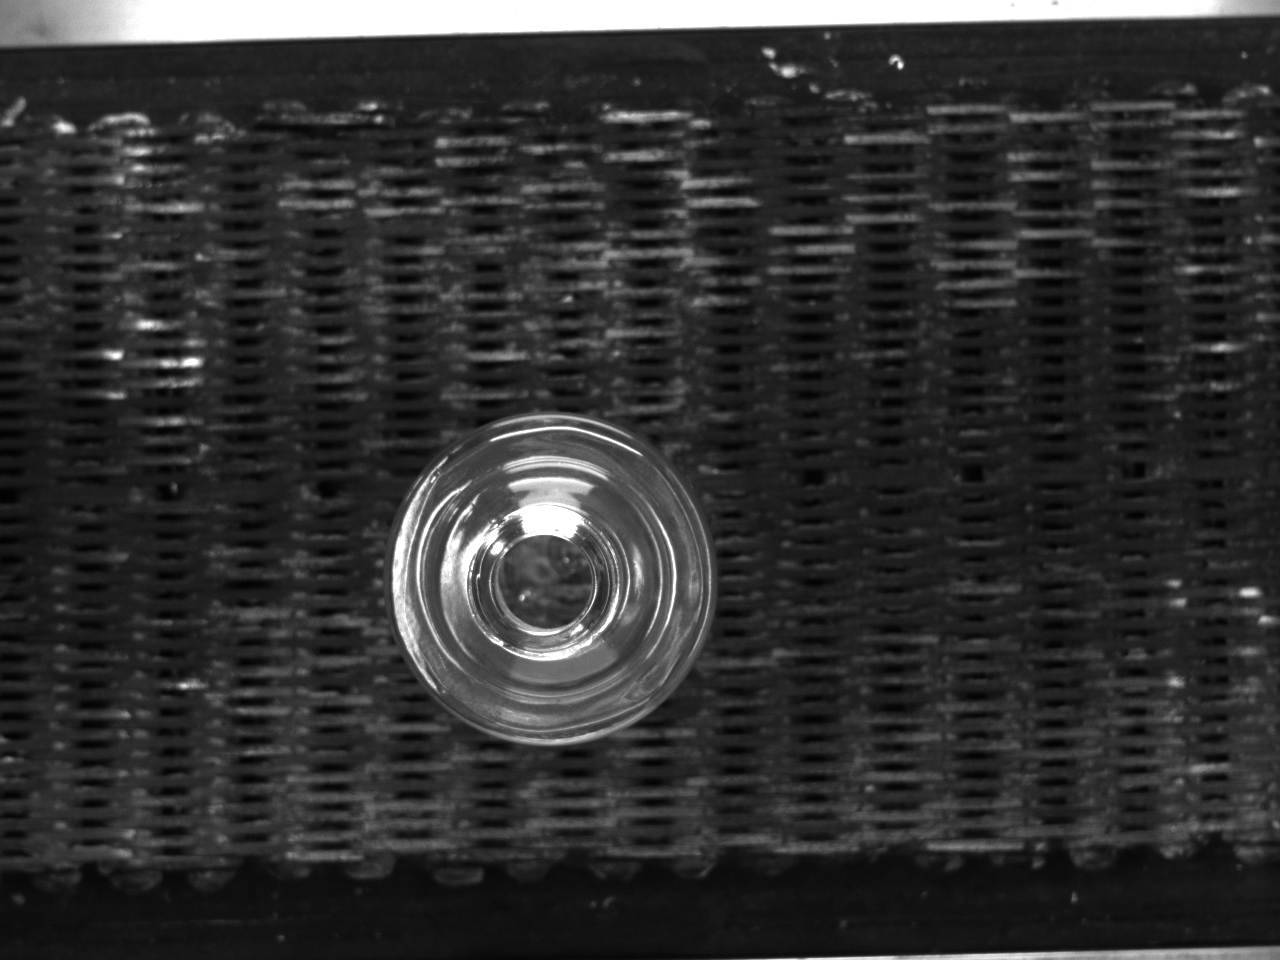bottleneck: (469, 505, 625, 661)
